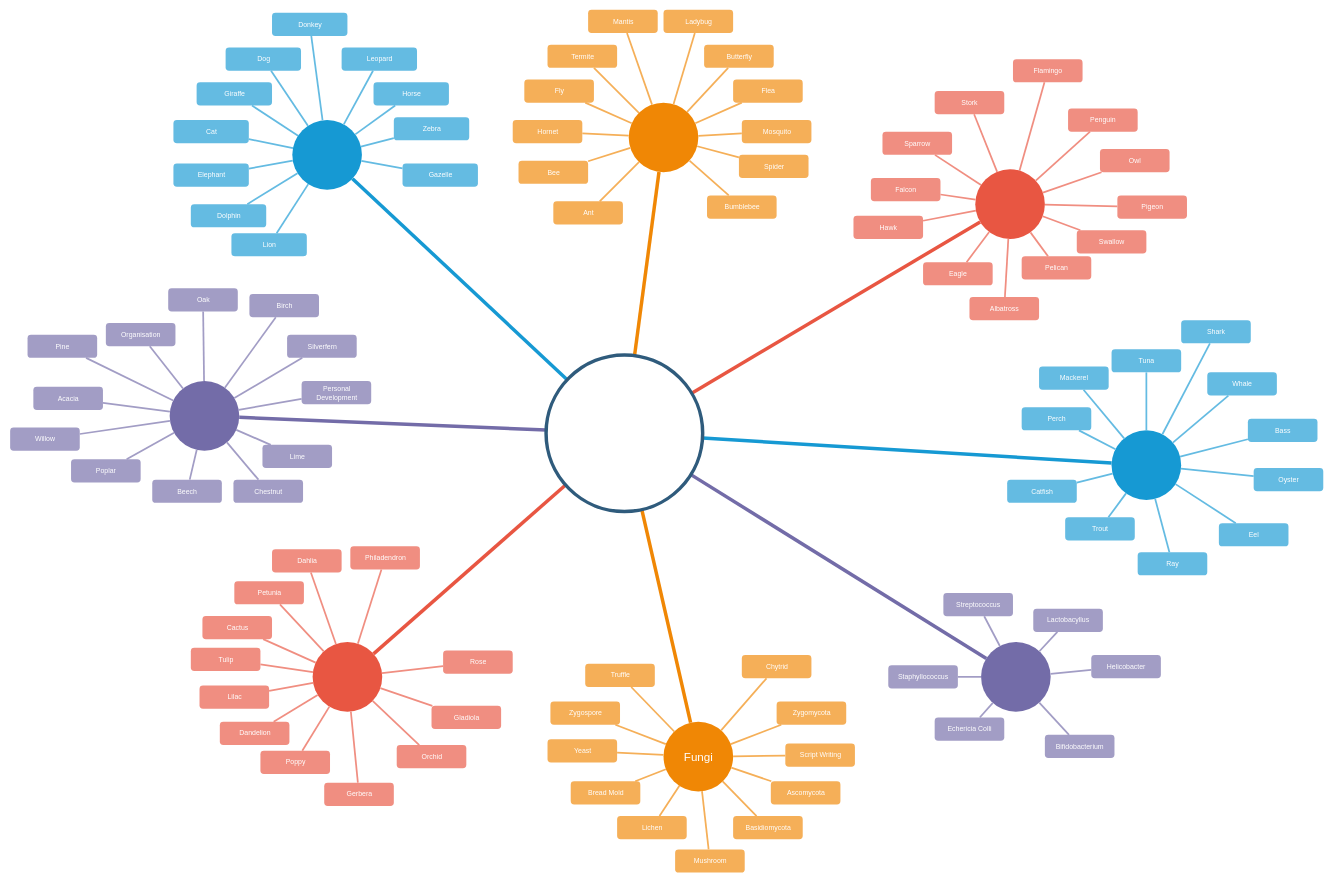
The diagram is 1333 pixels wide and 883 high, and some of its shapes have lost their labels. The shapes that lost their labels are listed below. From the top down, each one's centre as x and y in pixels, then its label:
At (327,154): "Mammal".
At (663,137): "Journals".
At (1010,204): "Bird".
At (204,415): "Tree".
At (624,433): "Tools".
At (1146,465): "Fish".
At (347,676): "Flower".
At (1015,676): "Bacteria".
